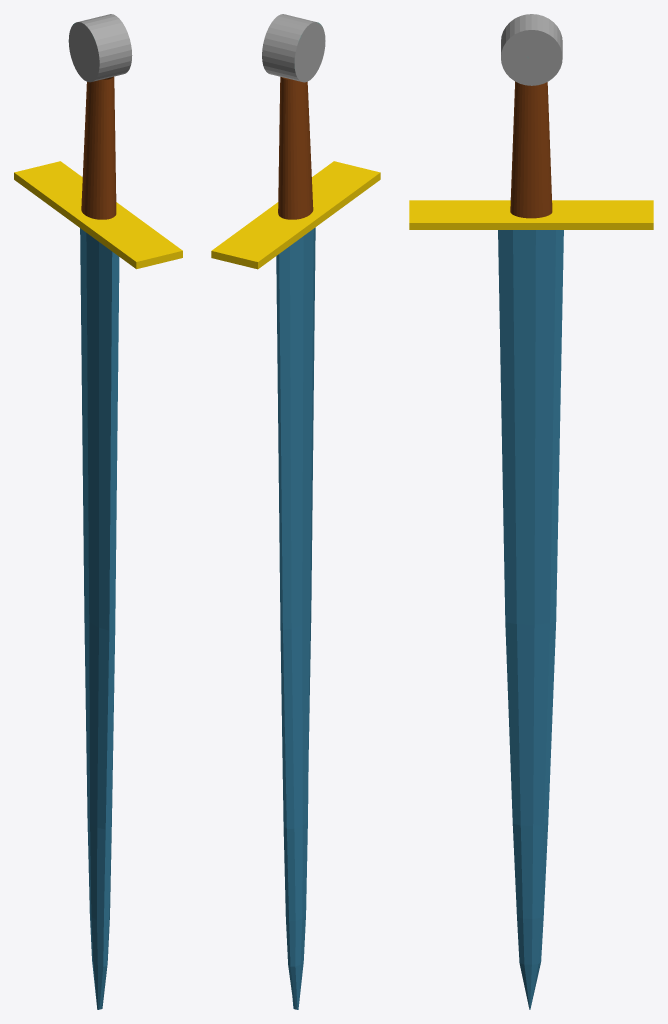
File: sword2.fbx
3 renders of one model, left to right at view 1: azimuth 30°, elevation 25°; view 2: azimuth 150°, elevation 25°; view 3: azimuth 270°, elevation 25°, orthographic.
Visible parts, largest first — view 1: Sword; view 2: Sword; view 3: Sword.
Part boxes in pixels (x1,y1,x2,y2): Sword: (14,14,182,1009); Sword: (211,14,380,1009); Sword: (409,14,653,1009).
Size of the model in its own units: 28.95 by 588 by 132.
1 material, 1 textured.
